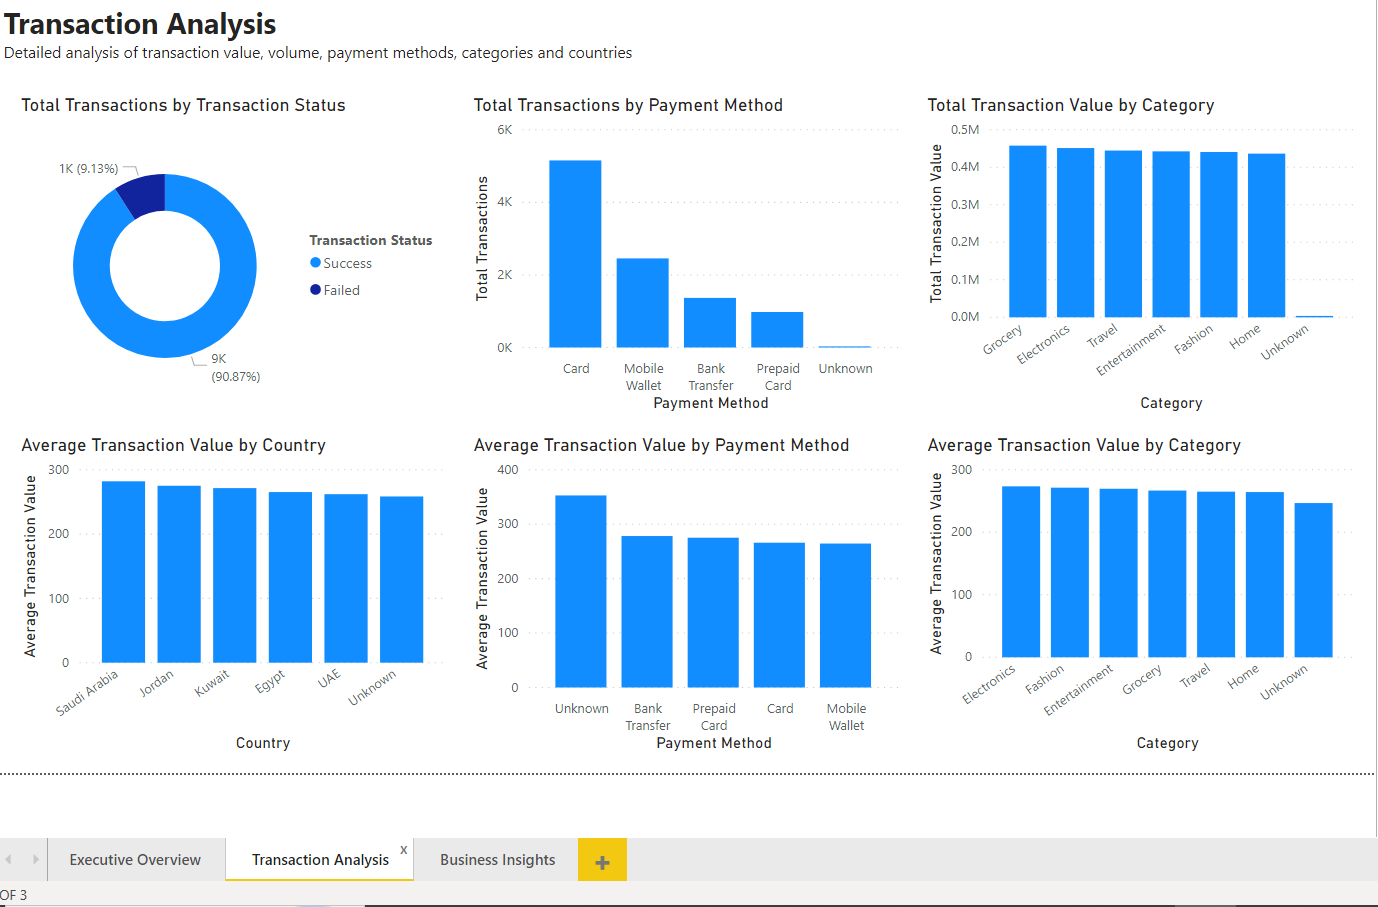

The dashboard page shown, as its layout file describes it:
{"tool":"powerbi","page":{"name":"Transaction Analysis","canvas":[1280,720],"ordinal":1},"visuals":[{"type":"clusteredColumnChart","fields":{"Category":["Sheet1.Payment_Method"],"Y":["Sheet1.Total Transactions"]},"box":[437,90,406,300],"z":0},{"type":"clusteredColumnChart","fields":{"Category":["Sheet1.Category"],"Y":["Sheet1.Total Transaction Value"]},"box":[858,90,406,300],"z":1000},{"type":"donutChart","fields":{"Category":["Sheet1.Transaction_Status"],"Y":["Sheet1.Total Transactions"]},"box":[16,90,406,300],"z":2000},{"type":"textbox","box":[0,0,640,80],"z":3000},{"type":"clusteredColumnChart","fields":{"Category":["Sheet1.Country"],"Y":["Sheet1.Average Transaction Value"]},"box":[16,405,406,300],"z":9000},{"type":"clusteredColumnChart","fields":{"Category":["Sheet1.Payment_Method"],"Y":["Sheet1.Average Transaction Value"]},"box":[437,405,406,300],"z":10000},{"type":"clusteredColumnChart","fields":{"Category":["Sheet1.Category"],"Y":["Sheet1.Average Transaction Value"]},"box":[858,405,406,300],"z":11000}]}

Visuals, with their boxes on the page's 1280x720 design canvas (x1, y1, x2, y2). These are canvas units, not pixel positions in the 1378x907 screenshot, which may show the page scaled, cropped or inside an application window:
clusteredColumnChart - Sheet1.Payment_Method x Sheet1.Total Transactions: x1=437 y1=90 x2=843 y2=390
clusteredColumnChart - Sheet1.Category x Sheet1.Total Transaction Value: x1=858 y1=90 x2=1264 y2=390
donutChart - Sheet1.Transaction_Status x Sheet1.Total Transactions: x1=16 y1=90 x2=422 y2=390
textbox: x1=0 y1=0 x2=640 y2=80
clusteredColumnChart - Sheet1.Country x Sheet1.Average Transaction Value: x1=16 y1=405 x2=422 y2=705
clusteredColumnChart - Sheet1.Payment_Method x Sheet1.Average Transaction Value: x1=437 y1=405 x2=843 y2=705
clusteredColumnChart - Sheet1.Category x Sheet1.Average Transaction Value: x1=858 y1=405 x2=1264 y2=705
